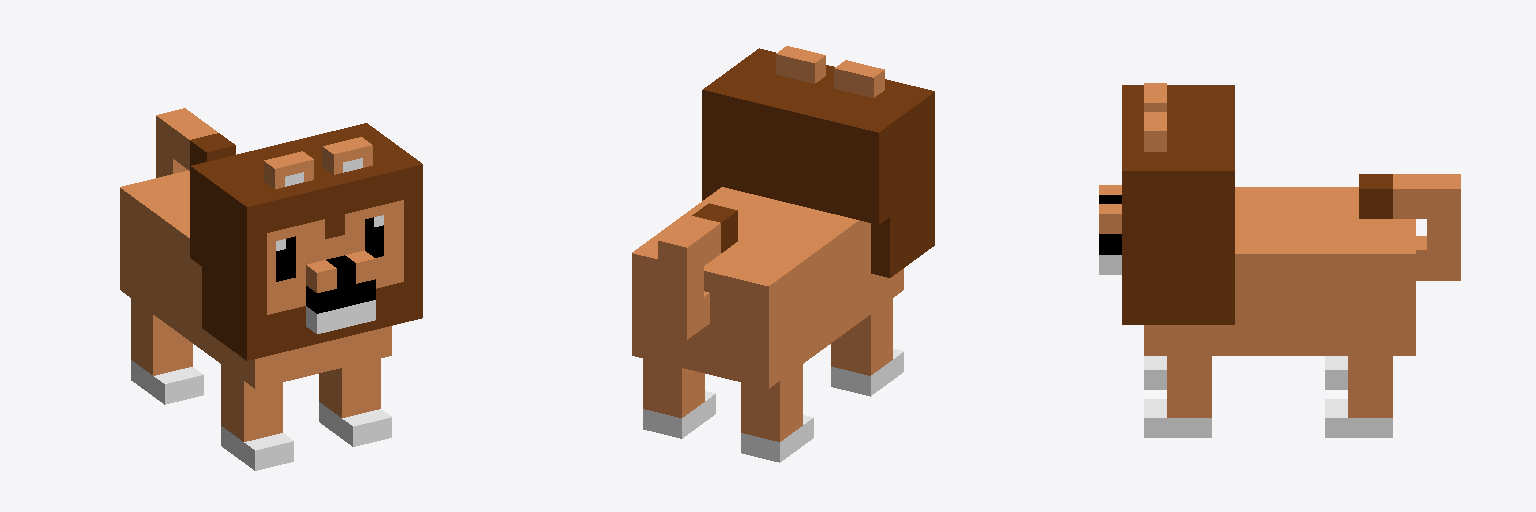
The picture shows the model from 3 angles: view 1: azimuth 30°, elevation 25°; view 2: azimuth 150°, elevation 25°; view 3: azimuth 270°, elevation 25°; orthographic projection.
Parts seen in each view (by area): view 1: object 1; view 2: object 1; view 3: object 1.
Boxes of the visible parts, x1=… form: object 1: x1=120, y1=108, x2=422, y2=470; object 1: x1=632, y1=46, x2=934, y2=462; object 1: x1=1099, y1=83, x2=1460, y2=437.
Size of the model in its own units: 1.8 by 2.9 by 3.2.
1 materials, 1 textured.